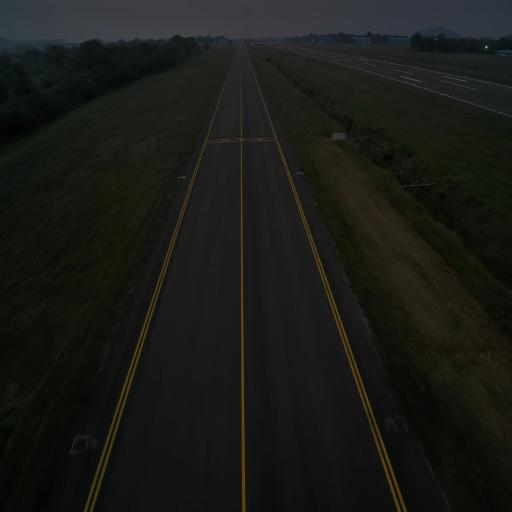on: (183, 173, 185, 176), (210, 108, 212, 111), (298, 169, 299, 172), (271, 107, 272, 109)
